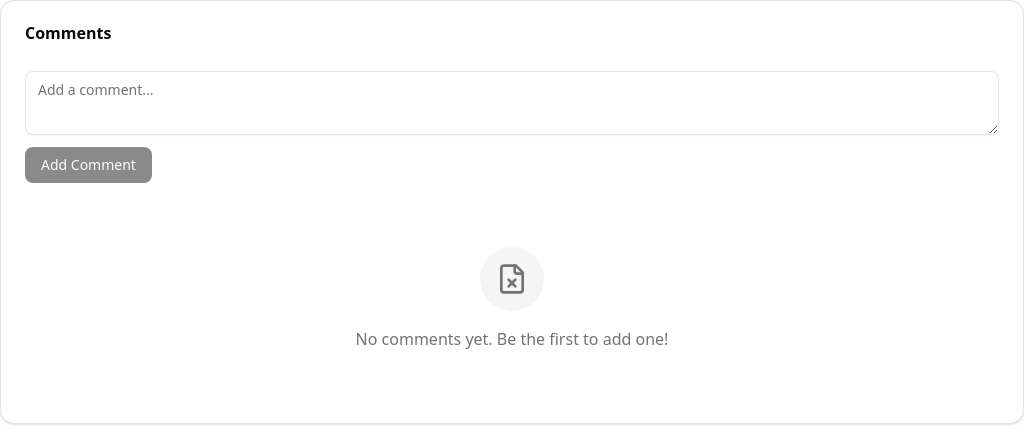
it: Comments › clears form after successful comment creation
The width and height of the screenshot is (1024, 442).
Type "New comment" into the text box with placeholder "Add a comment...".
click(512, 103); type("New comment")  # box [25,71,999,135]
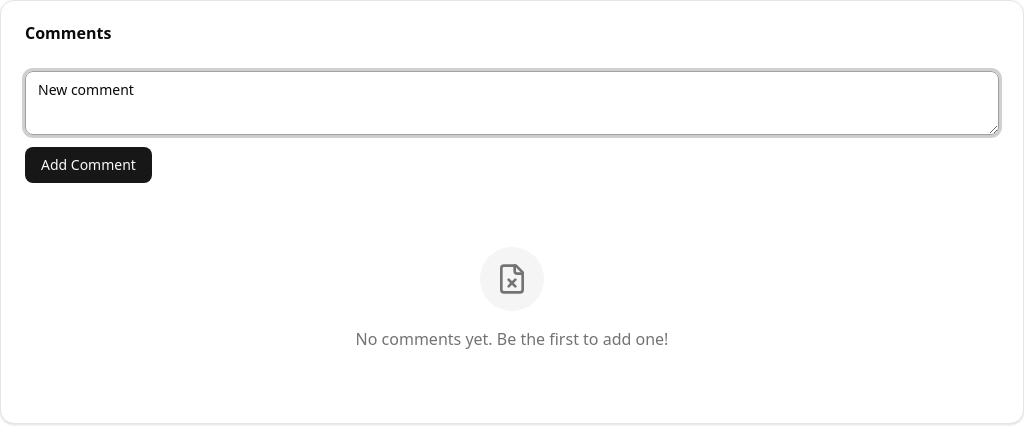
Click the button "Add Comment".
click(88, 165)  # box [25,147,152,183]
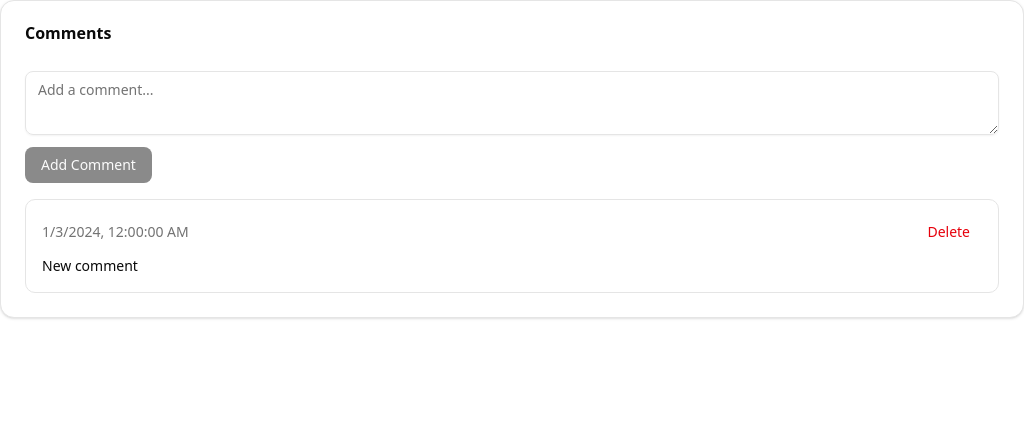
Check: the text box with placeholder "Add a comment..." is empty, box [25,71,999,135]
